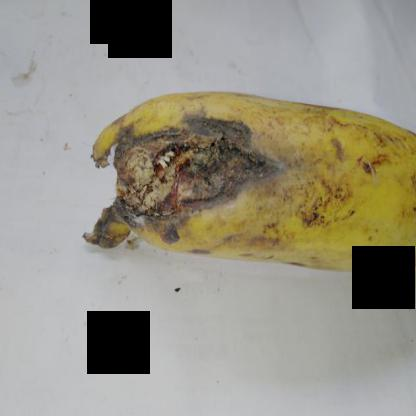ripe: (94, 80, 416, 301)
rotten: (75, 101, 275, 262)
